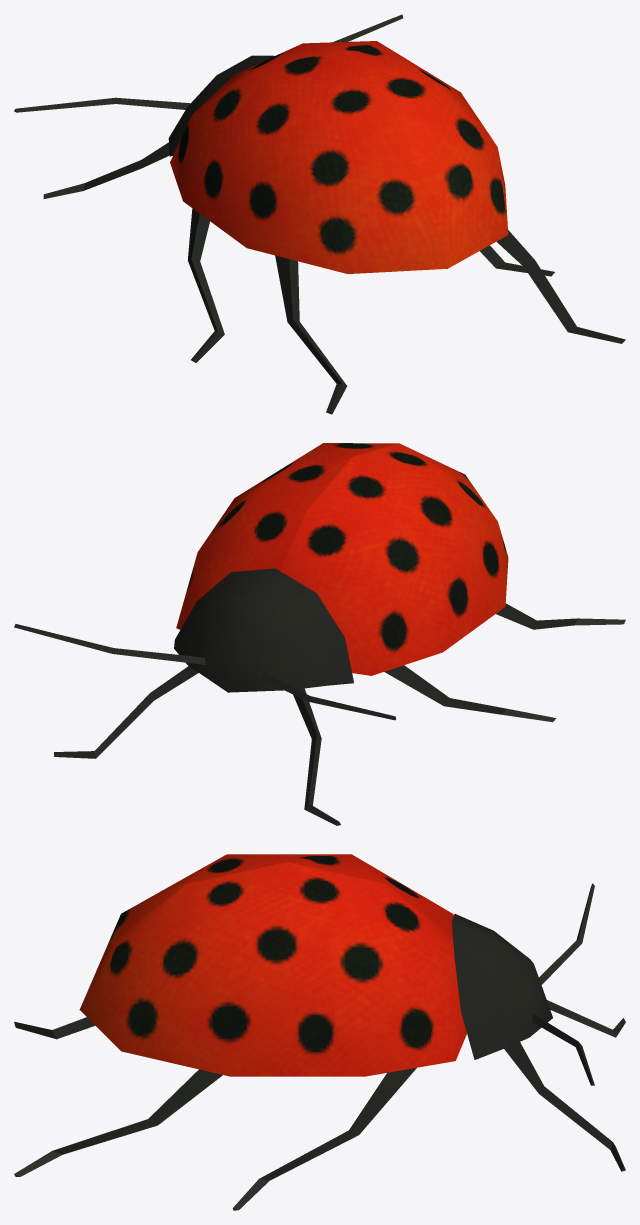
Rendered from Ladbag_01.FBX.
The picture shows the model from 3 angles, top to bottom: view 1: azimuth 30°, elevation 25°; view 2: azimuth 150°, elevation 25°; view 3: azimuth 270°, elevation 25°; orthographic projection. The views are drawn at different scales.
Parts seen in each view (by area): view 1: Bug_Wing_Left_01, Bug_Wing_Right_01, Bug_01; view 2: Bug_Wing_Left_01, Bug_01, Bug_Wing_Right_01; view 3: Bug_Wing_Right_01, Bug_01, Bug_Wing_Left_01.
Boxes of the visible parts, x1,y1,x2,y2 form: Bug_Wing_Left_01: (170,43,447,273); Bug_Wing_Right_01: (302,41,508,268); Bug_01: (14,14,625,414); Bug_Wing_Left_01: (280,443,508,675); Bug_01: (14,568,625,825); Bug_Wing_Right_01: (176,443,398,629); Bug_Wing_Right_01: (80,862,466,1076); Bug_01: (14,883,625,1210); Bug_Wing_Left_01: (79,854,453,1009).
Size of the model in its own units: 37.16 by 22.39 by 48.15.
